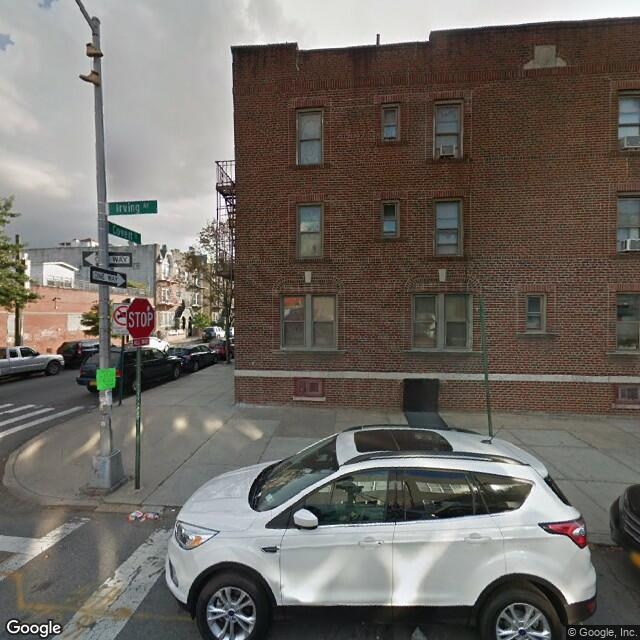litter: (128, 505, 163, 526)
